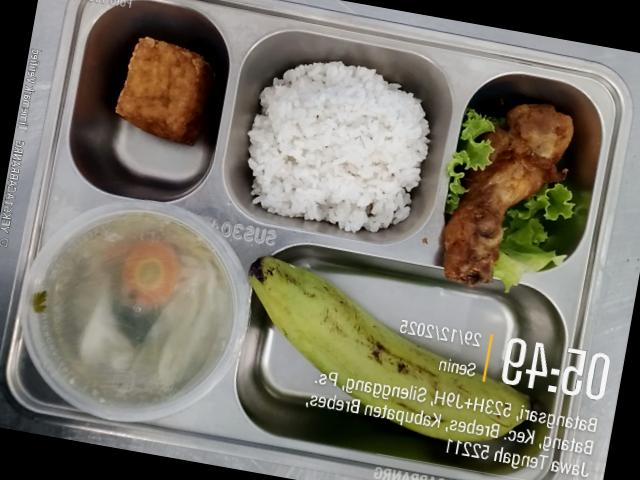ayam: (442, 104, 573, 285)
buah: (248, 256, 528, 441)
nasi: (247, 62, 429, 231)
sayur: (23, 207, 243, 420), (493, 183, 574, 290)
tahu: (115, 37, 213, 145)
